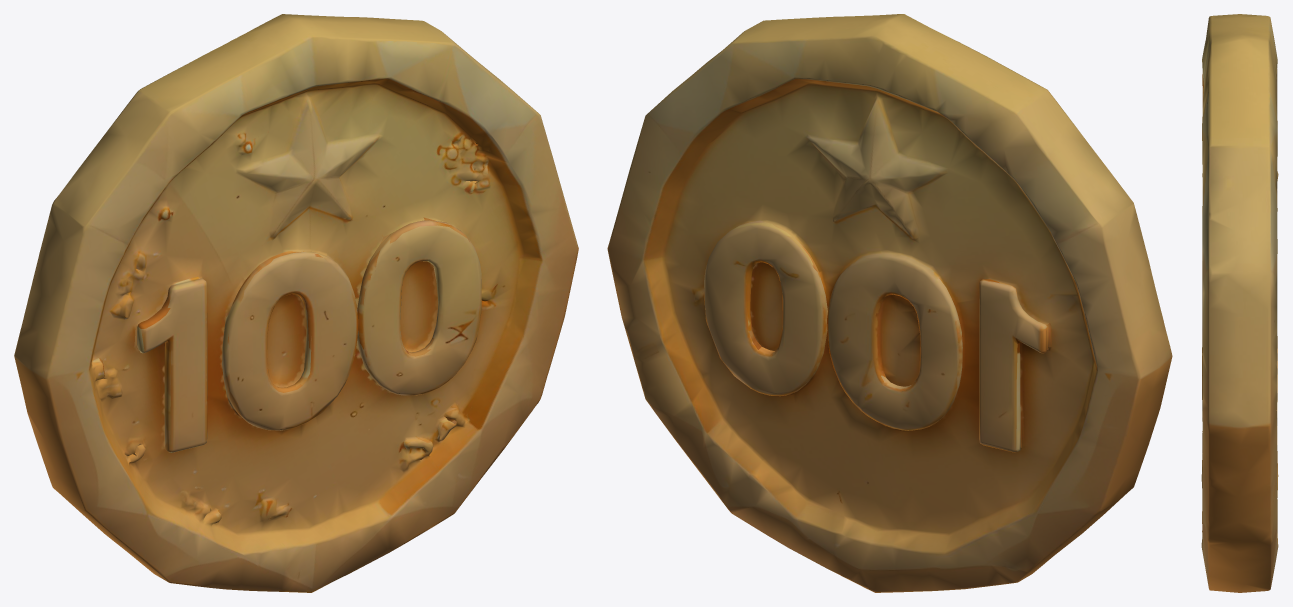
Rendered from coin.glb.
3 views of the same model, side by side, from view 1: azimuth 30°, elevation 25°; view 2: azimuth 150°, elevation 25°; view 3: azimuth 270°, elevation 25° (orthographic). The views are drawn at different scales.
Parts seen in each view (by area): view 1: world; view 2: world; view 3: world.
Part boxes in pixels (<box>): world: <box>14,14,578,592</box>; world: <box>607,14,1172,592</box>; world: <box>1201,14,1278,592</box>.
Size of the model in its own units: 1.98 by 1.99 by 0.2607.
Materials: 1 (1 with a texture image).
